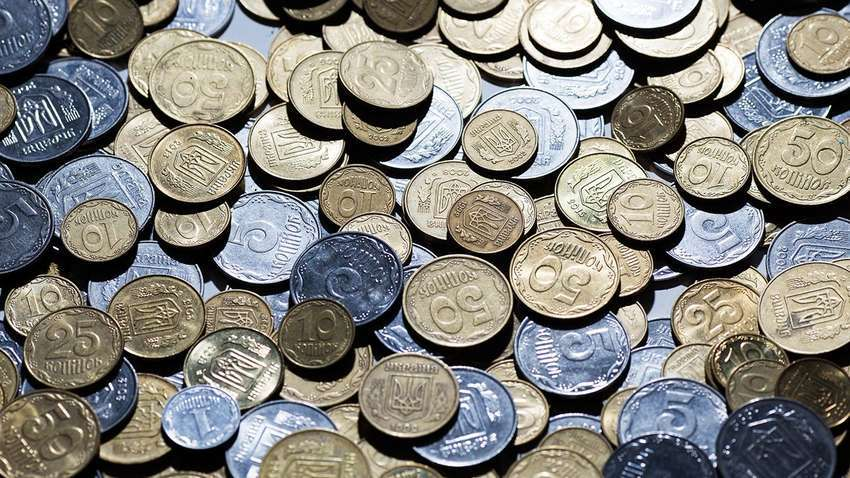coin_1: (160, 388, 238, 446)
coin_10: (466, 109, 536, 171), (679, 138, 750, 199), (612, 183, 681, 238), (789, 14, 850, 75), (283, 304, 346, 363), (67, 203, 133, 257), (324, 170, 393, 218), (11, 276, 79, 320), (153, 208, 227, 247), (77, 8, 128, 53), (540, 7, 589, 47), (626, 95, 667, 142), (513, 392, 540, 441), (674, 61, 714, 93), (736, 370, 773, 402), (720, 342, 761, 366)
coin_25: (346, 44, 427, 106), (689, 283, 761, 330)
coin_5: (232, 207, 303, 272), (526, 328, 610, 381), (737, 418, 813, 476), (633, 396, 709, 436), (320, 249, 382, 296), (685, 211, 745, 257), (626, 445, 699, 478), (0, 198, 39, 258), (0, 3, 33, 61)
coin_50: (518, 232, 612, 306), (412, 265, 504, 340), (157, 42, 247, 118), (768, 123, 847, 196), (7, 410, 89, 475)
